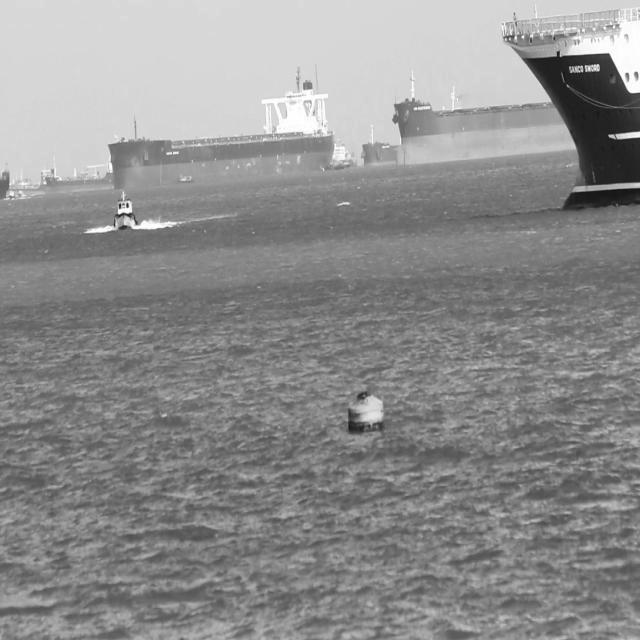buoy: (346, 388, 386, 436)
ship: (500, 0, 639, 213), (106, 66, 334, 190), (391, 64, 578, 168), (44, 158, 112, 192), (360, 124, 403, 169), (1, 164, 42, 199), (112, 187, 138, 236), (325, 138, 358, 170), (5, 186, 18, 204)
